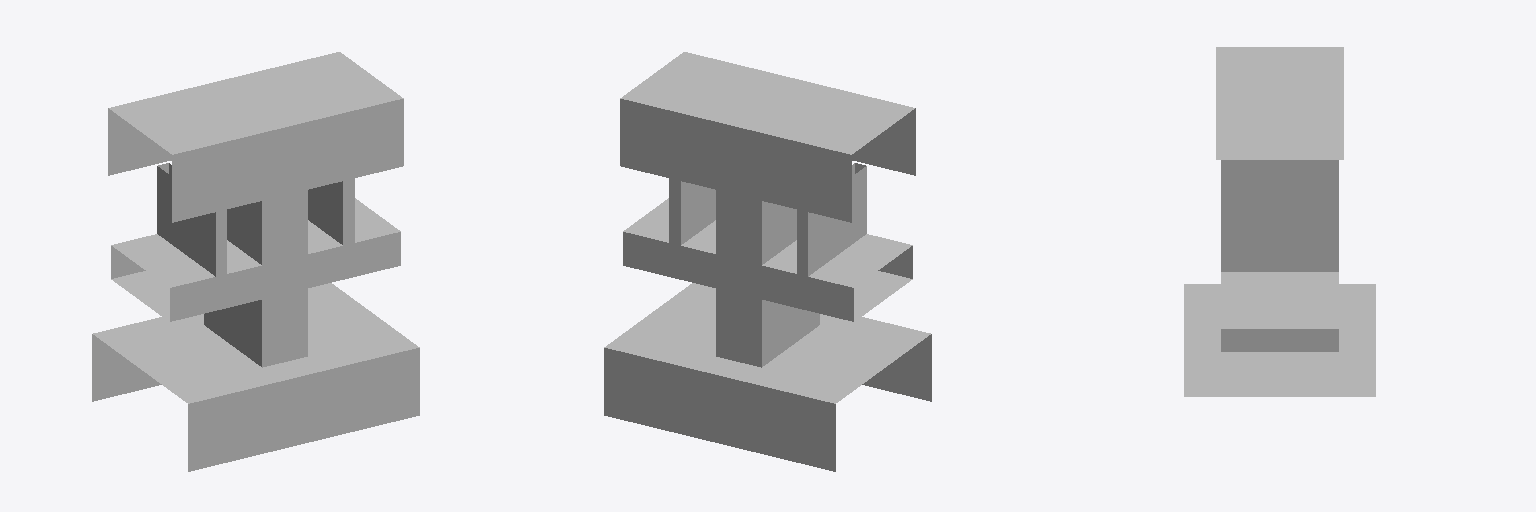
File: wallNormal.obj
3 renders of one model, left to right at view 1: azimuth 30°, elevation 25°; view 2: azimuth 150°, elevation 25°; view 3: azimuth 270°, elevation 25°, orthographic.
Parts seen in each view (by area): view 1: mesh01; view 2: mesh01; view 3: mesh01.
Part boxes in pixels (left/top/right/bottom): mesh01: left=92, top=52, right=419, bottom=471; mesh01: left=604, top=52, right=931, bottom=471; mesh01: left=1184, top=47, right=1375, bottom=396.
Size of the model in its own units: 1 by 1.26 by 0.718.